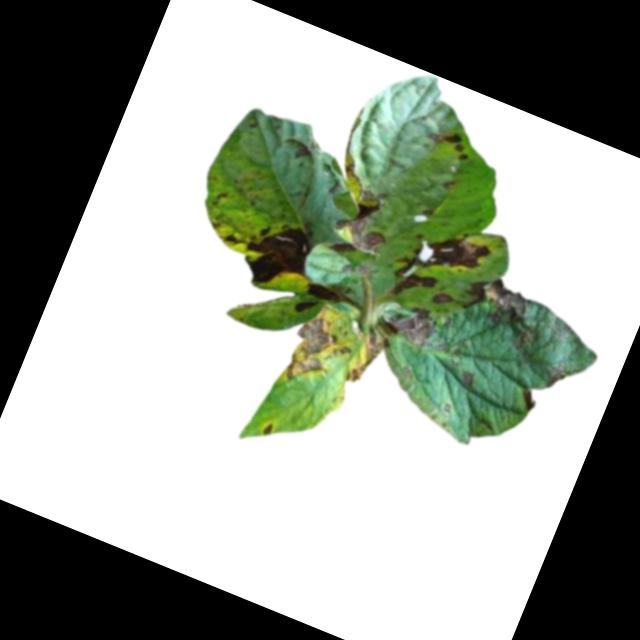Early_blight: (380, 210, 495, 320), (452, 267, 553, 354), (280, 299, 362, 398), (234, 210, 317, 297), (323, 189, 399, 268), (380, 293, 443, 352), (345, 329, 391, 392), (424, 122, 476, 166), (294, 276, 342, 323), (538, 353, 572, 393), (430, 287, 458, 311), (519, 386, 542, 413), (258, 418, 276, 436)
